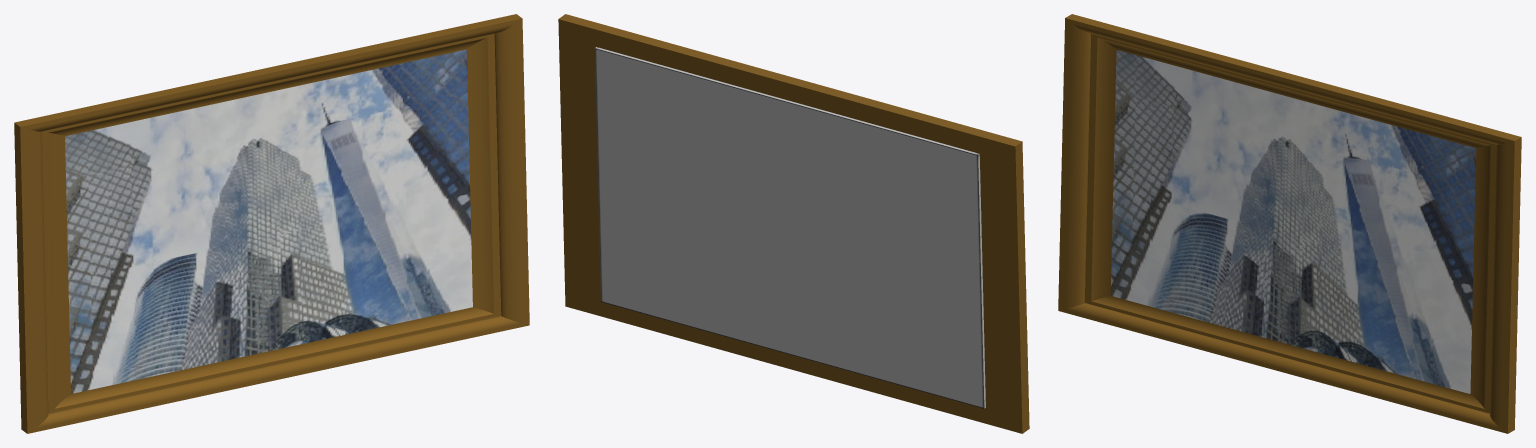
Rendered from ent.glb.
3 renders of one model, left to right at view 1: azimuth 30°, elevation 25°; view 2: azimuth 150°, elevation 25°; view 3: azimuth 330°, elevation 25°, orthographic. The views are drawn at different scales.
Parts seen in each view (by area): view 1: ent, node_id7; view 2: ent, node_id7; view 3: ent, node_id7.
Boxes of the visible parts, left/top/right/bottom form: ent: left=65, top=49, right=472, bottom=393; node_id7: left=14, top=14, right=529, bottom=433; ent: left=594, top=47, right=985, bottom=408; node_id7: left=558, top=14, right=1029, bottom=433; ent: left=1110, top=50, right=1476, bottom=393; node_id7: left=1058, top=14, right=1521, bottom=433.
Size of the model in its own units: 2.31 by 1.37 by 0.2423.
Materials: 2 (1 with a texture image).
